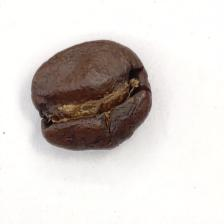NG: (36, 68, 142, 125)
